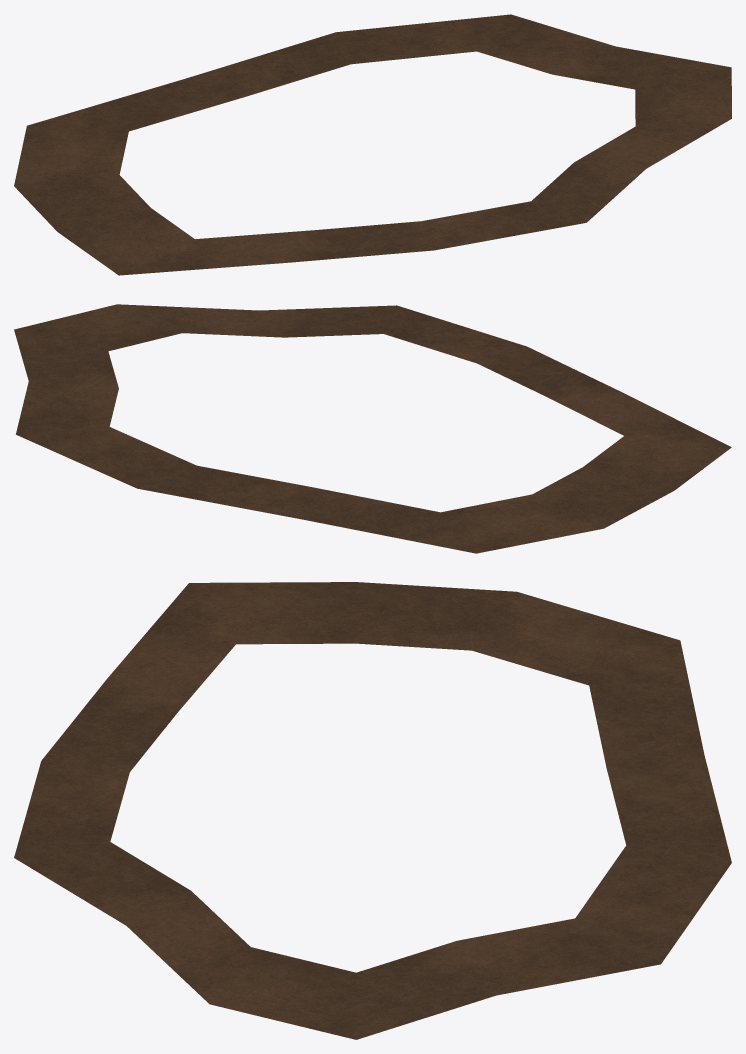
The model's file is puddle_rim_2.glb.
3 views of the same model, one above another, from view 1: azimuth 30°, elevation 25°; view 2: azimuth 150°, elevation 25°; view 3: azimuth 270°, elevation 25° (orthographic). The views are drawn at different scales.
Parts seen in each view (by area): view 1: puddle_rim_2; view 2: puddle_rim_2; view 3: puddle_rim_2.
Boxes of the visible parts, x1,y1,x2,y2 form: puddle_rim_2: (14,14,731,275); puddle_rim_2: (14,304,731,553); puddle_rim_2: (14,582,731,1039).
Bounding box in the file's own units: 7.02 × 0.013 × 4.65.
1 material, 1 textured.
